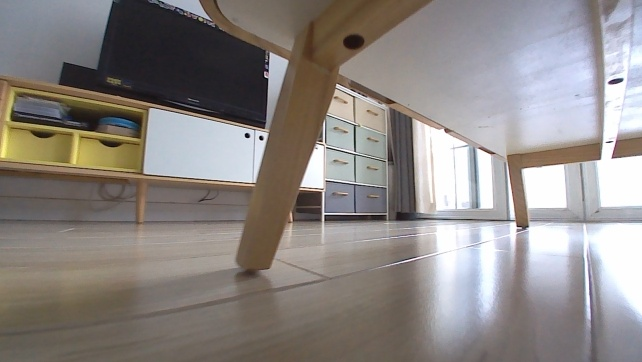TV_stand: (0, 73, 330, 225)
wire: (95, 184, 135, 202), (195, 188, 220, 203)
